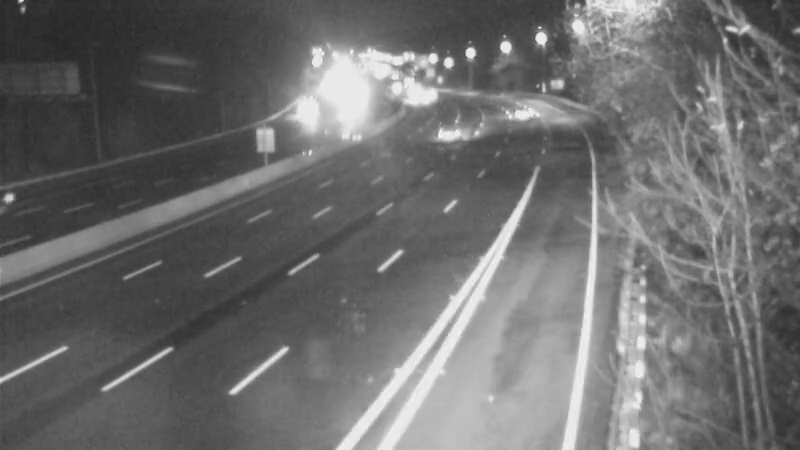vehicle: (494, 90, 544, 140), (426, 105, 476, 155), (275, 88, 325, 138)
